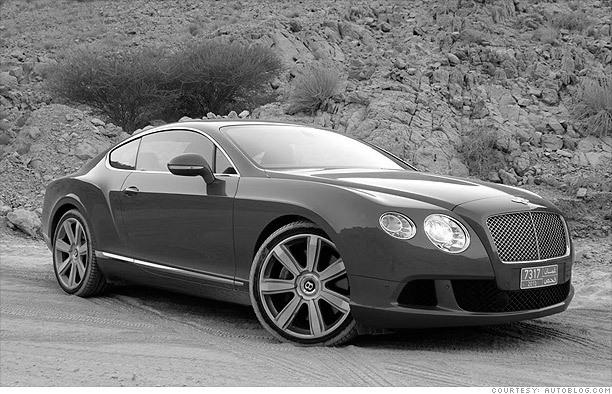car: (40, 119, 575, 349)
